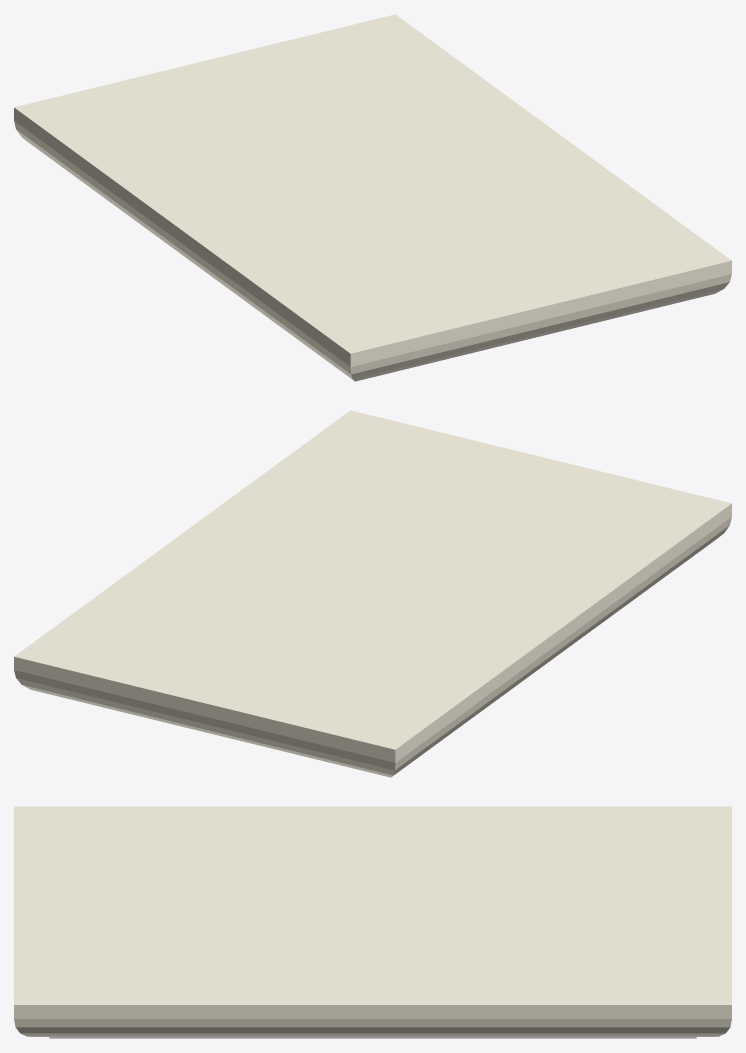
The picture shows the model from 3 angles, top to bottom: view 1: azimuth 30°, elevation 25°; view 2: azimuth 150°, elevation 25°; view 3: azimuth 270°, elevation 25°; orthographic projection. The views are drawn at different scales.
Visible parts, largest first — view 1: Cube.001; view 2: Cube.001; view 3: Cube.001, Cube.
Boxes of the visible parts, x1,y1,x2,y2 form: Cube.001: (14,14,731,381); Cube.001: (14,410,731,777); Cube.001: (14,806,731,1036); Cube: (49,1037,696,1038).
Bounding box in the file's own units: 234 × 30.94 × 358.
